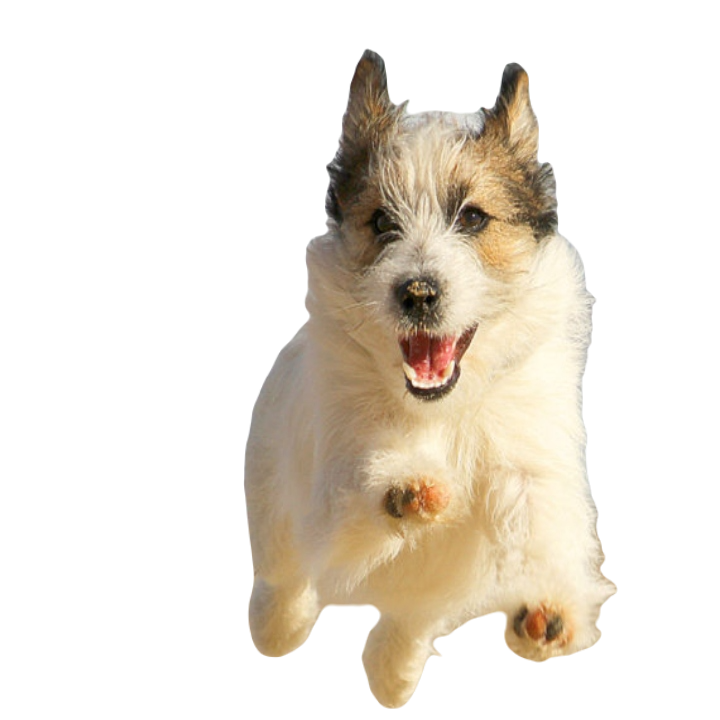Dog: (245, 49, 618, 710)
